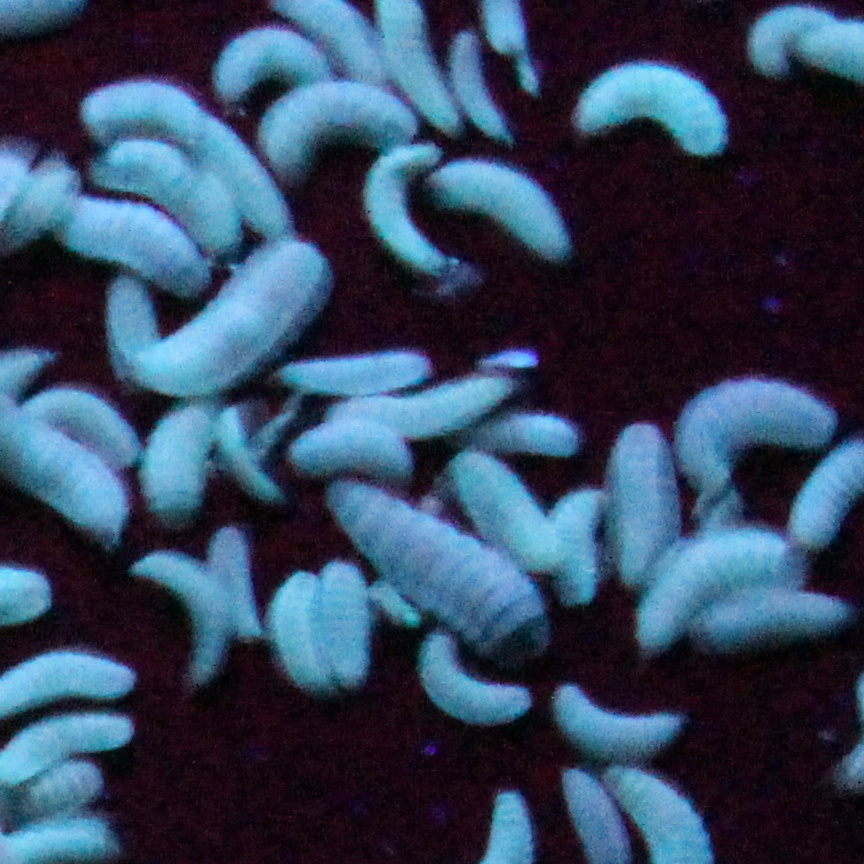larve: (327, 476, 539, 645), (136, 240, 321, 392), (573, 54, 743, 165), (634, 533, 807, 640), (96, 133, 246, 249), (675, 372, 836, 479), (177, 108, 302, 235), (452, 445, 568, 570), (75, 197, 205, 299), (439, 158, 568, 258), (371, 131, 455, 272), (146, 551, 234, 683), (416, 631, 539, 722), (271, 85, 414, 163), (550, 681, 684, 763), (327, 374, 523, 429), (616, 420, 671, 585), (198, 517, 268, 642), (696, 592, 859, 645), (441, 24, 509, 145), (32, 388, 139, 460), (86, 76, 202, 142), (321, 565, 382, 688), (739, 6, 848, 74), (214, 392, 275, 510), (209, 29, 336, 85), (271, 356, 434, 399), (150, 406, 214, 510), (268, 565, 318, 692), (557, 485, 607, 608), (296, 426, 407, 474), (23, 758, 102, 813), (14, 163, 71, 238), (496, 406, 577, 456), (371, 583, 427, 631), (9, 824, 132, 845)
